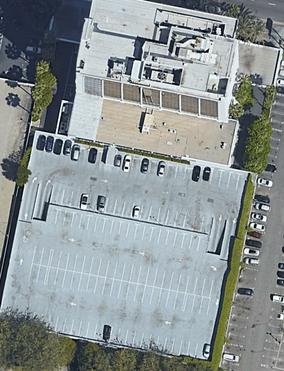parkingspot: (219, 58, 284, 371), (0, 306, 215, 362), (49, 249, 214, 299), (49, 187, 214, 236), (44, 206, 209, 255), (45, 267, 187, 313), (113, 150, 249, 194), (259, 244, 284, 369), (35, 134, 110, 167), (183, 294, 211, 317), (274, 320, 284, 371), (28, 263, 49, 287), (32, 246, 52, 268)
